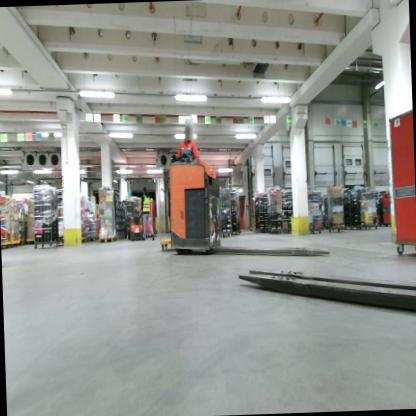pallet: (97, 235, 116, 244), (115, 233, 121, 241), (121, 234, 127, 241)
pallet_truck: (158, 147, 335, 263), (234, 254, 416, 326), (125, 204, 145, 244)
